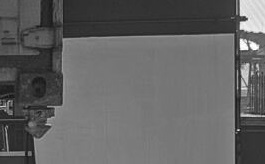twist_lock_2: (17, 97, 64, 143)
